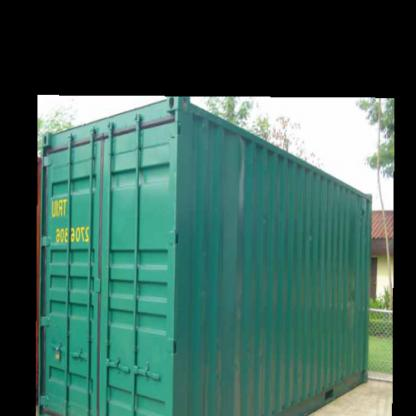Damage: (307, 274, 361, 324), (232, 270, 250, 416), (232, 134, 256, 230), (299, 217, 316, 242)
